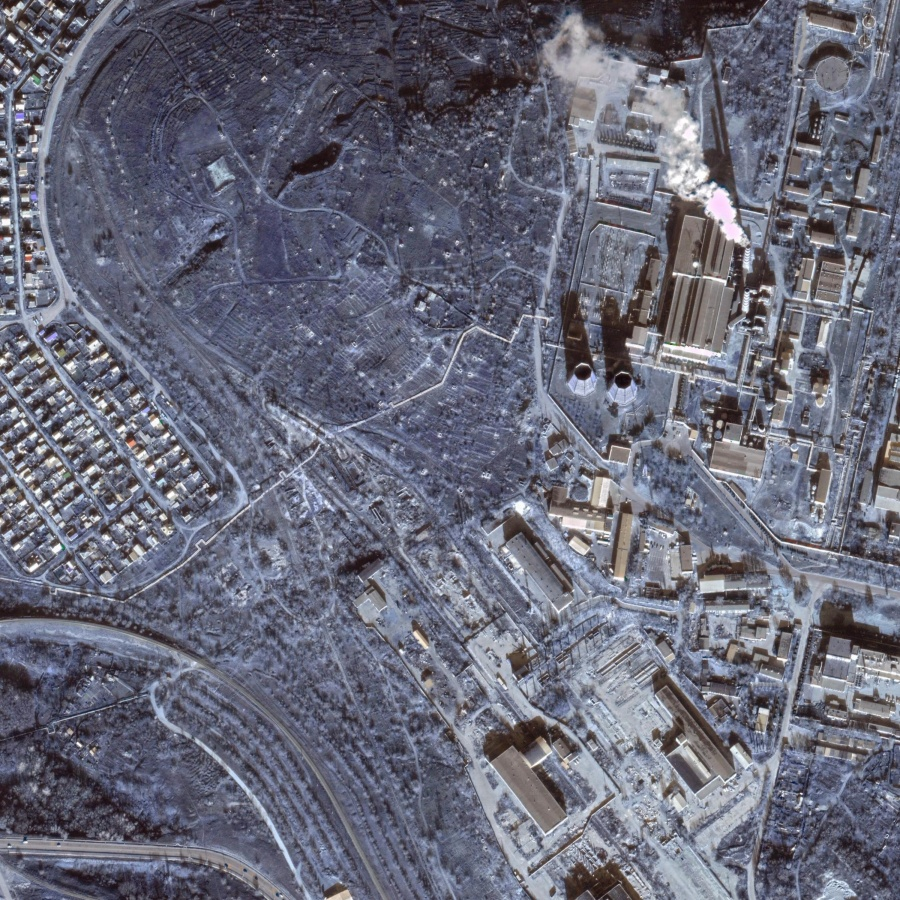PowerPlant: (554, 156, 777, 417)
